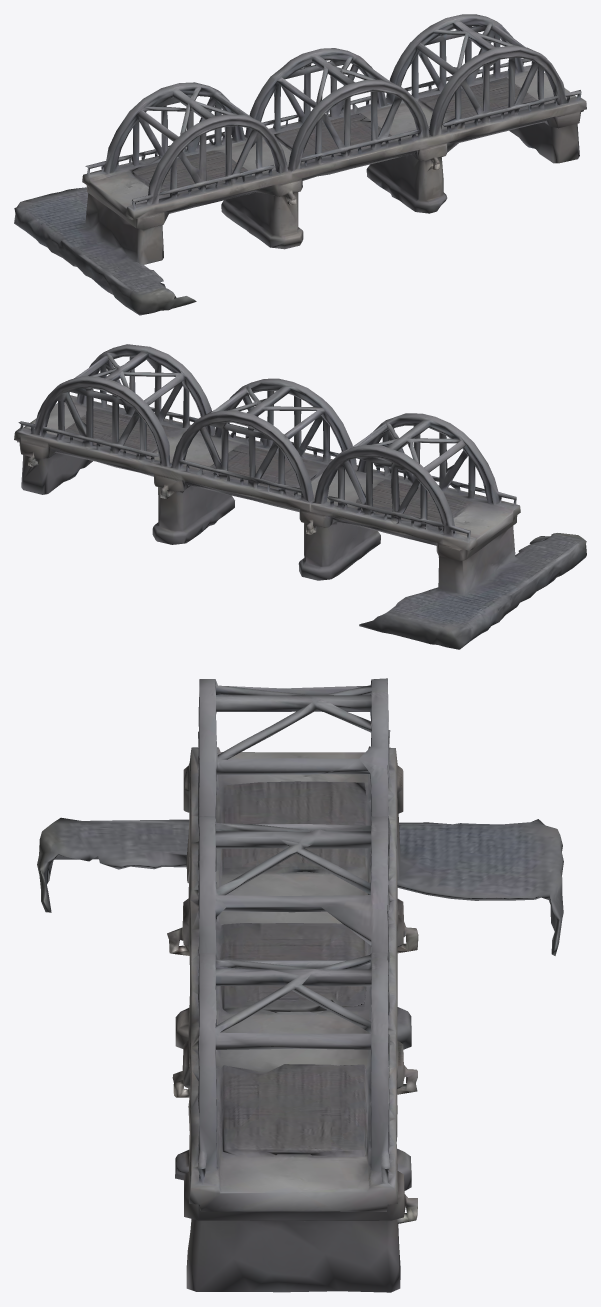
The model's file is anambra_bridge.glb.
3 views of the same model, one above another, from view 1: azimuth 30°, elevation 25°; view 2: azimuth 150°, elevation 25°; view 3: azimuth 270°, elevation 25° (orthographic). The views are drawn at different scales.
Parts seen in each view (by area): view 1: tripo_node_ef7f863b-ba2f-422c-afab-74fd3f0d4c1e; view 2: tripo_node_ef7f863b-ba2f-422c-afab-74fd3f0d4c1e; view 3: tripo_node_ef7f863b-ba2f-422c-afab-74fd3f0d4c1e.
Boxes of the visible parts, x1,y1,x2,y2 form: tripo_node_ef7f863b-ba2f-422c-afab-74fd3f0d4c1e: (14,14,586,315); tripo_node_ef7f863b-ba2f-422c-afab-74fd3f0d4c1e: (14,344,586,649); tripo_node_ef7f863b-ba2f-422c-afab-74fd3f0d4c1e: (37,678,563,1292).
Size of the model in its own units: 1 by 0.2771 by 0.4693.
1 material, 1 textured.
